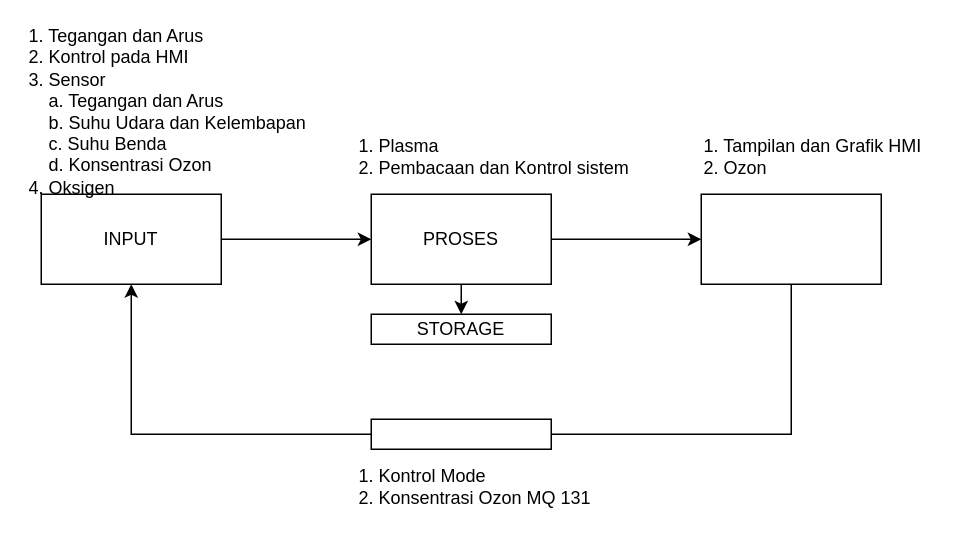
This 966x536 diagram has some shape labels left out. Here are the shapes that lost their labels. From the top down, the centre of each, then its label:
At [790,238]: "OUTPUT".
At [460,433]: "FEEDBACK".
